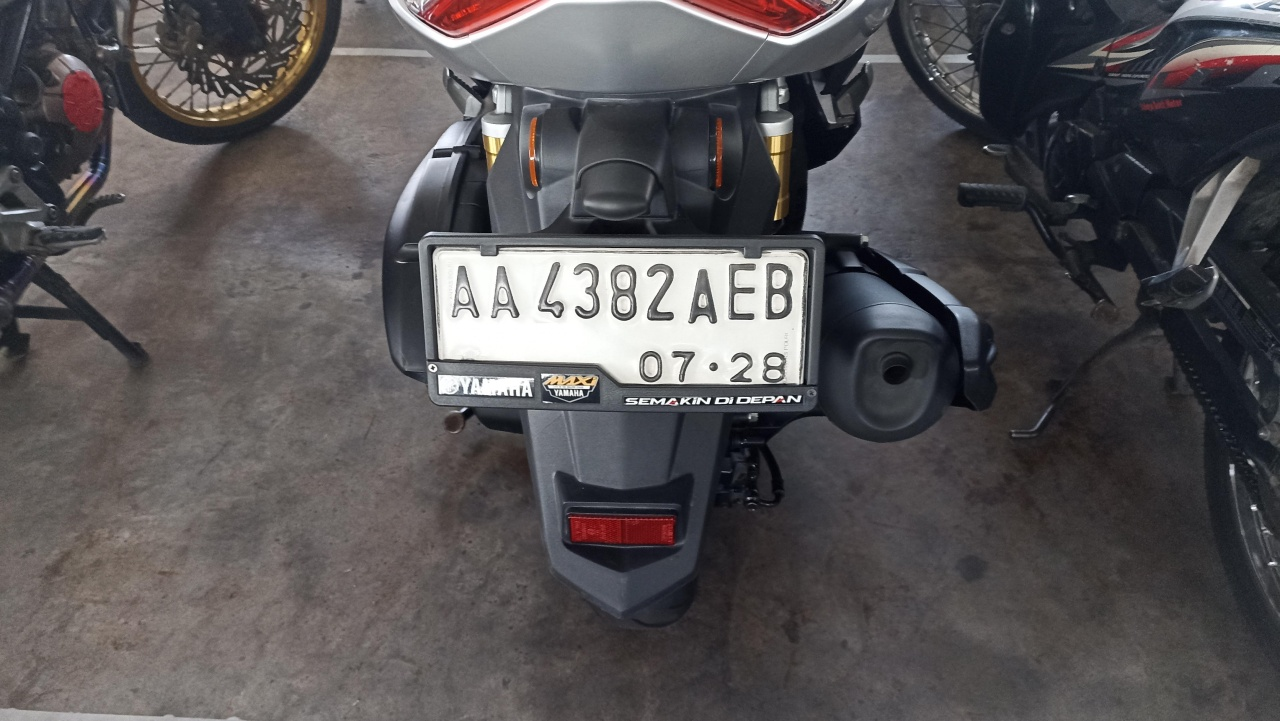plate: (430, 241, 813, 406)
